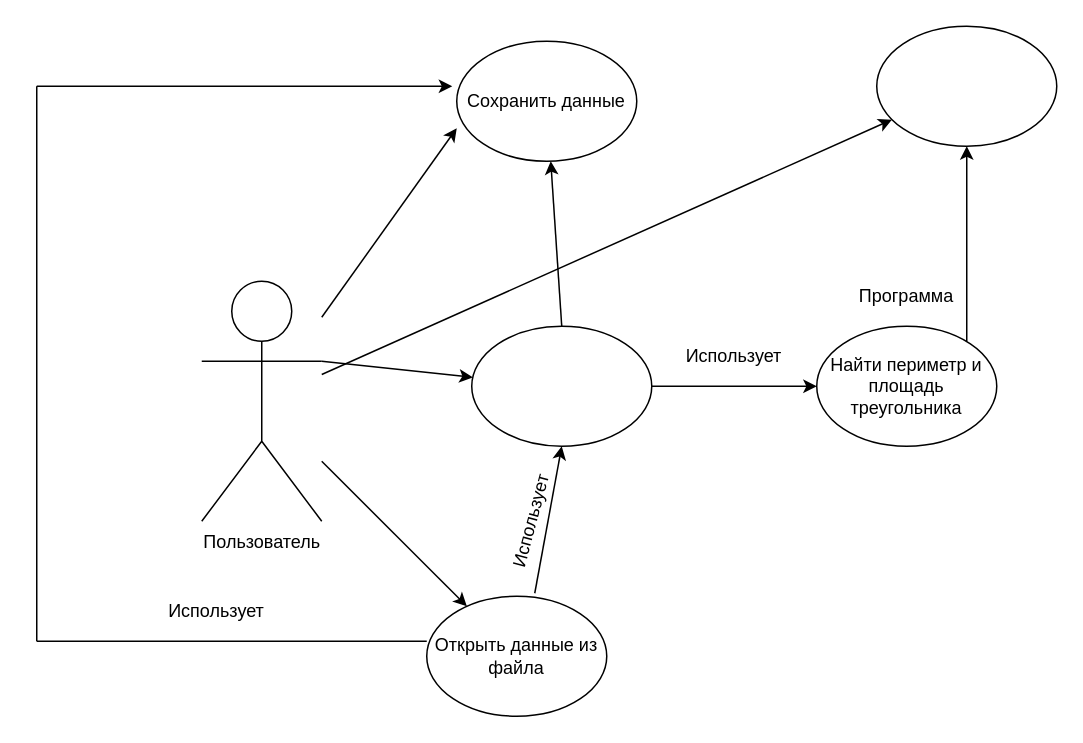
Image size: 1083x743. Some labels were removed from this diagram. Each missing label, with the centre of its shape:
Вводить координаты: point (561, 385)
Сохранить отчёт: point (966, 85)
